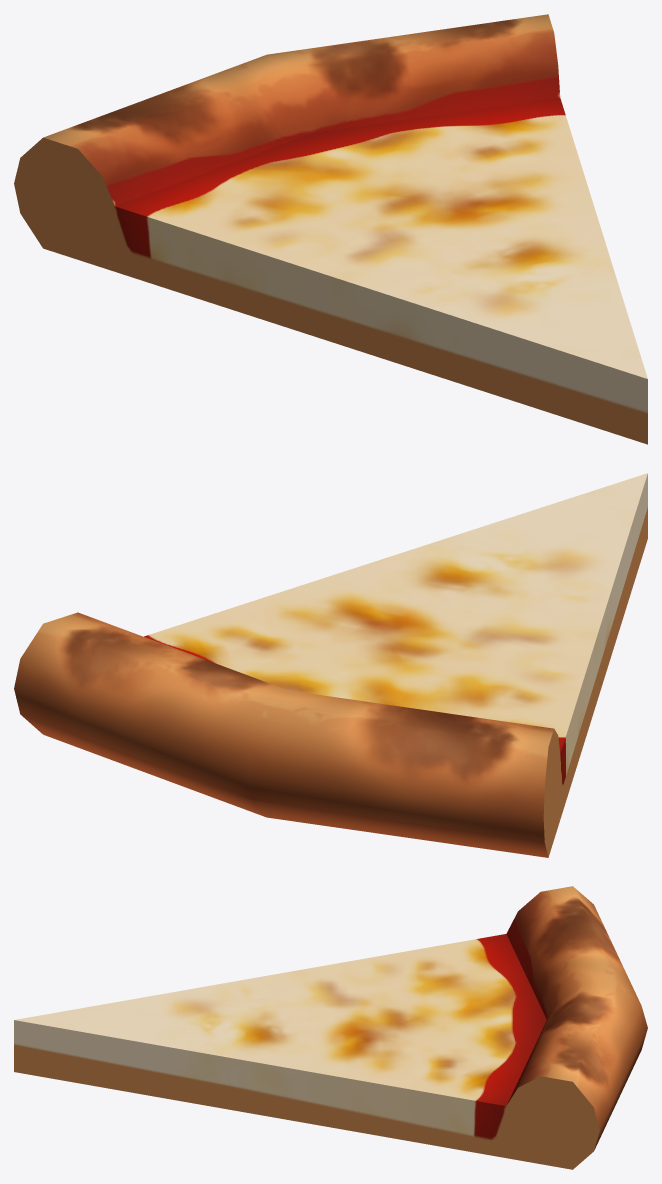
Rendered from Pizza_Slice.fbx.
3 views of the same model, one above another, from view 1: azimuth 30°, elevation 25°; view 2: azimuth 150°, elevation 25°; view 3: azimuth 270°, elevation 25° (orthographic). The views are drawn at different scales.
Parts seen in each view (by area): view 1: Pizza_Slice; view 2: Pizza_Slice; view 3: Pizza_Slice.
Part boxes in pixels (x1,y1,x2,y2): Pizza_Slice: (14,14,647,444); Pizza_Slice: (14,473,647,857); Pizza_Slice: (14,886,647,1169).
Size of the model in its own units: 64.93 by 13 by 84.84.
